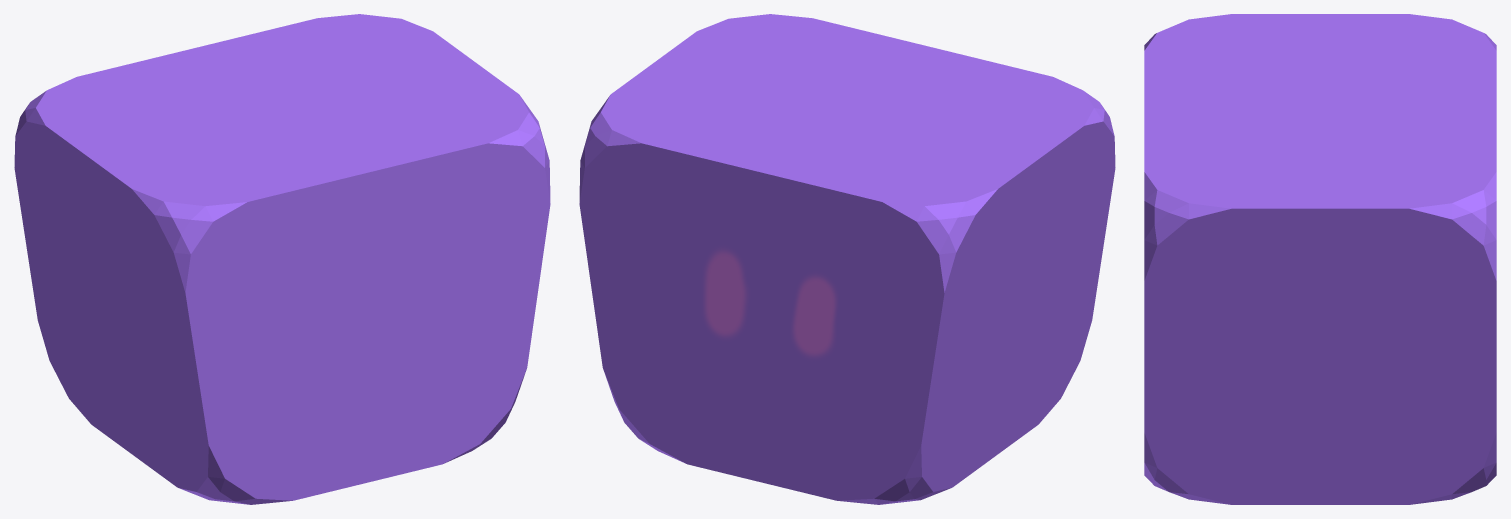
File: head.obj
The picture shows the model from 3 angles, left to right: view 1: azimuth 30°, elevation 25°; view 2: azimuth 150°, elevation 25°; view 3: azimuth 270°, elevation 25°; orthographic projection. The views are drawn at different scales.
Visible parts, largest first — view 1: head; view 2: head; view 3: head.
Part boxes in pixels (x1,y1,x2,y2): head: (14, 14, 550, 504); head: (579, 14, 1115, 504); head: (1144, 14, 1496, 504).
Bounding box in the file's own units: 0.5946 × 0.4545 × 0.4545.
1 material, 1 textured.
